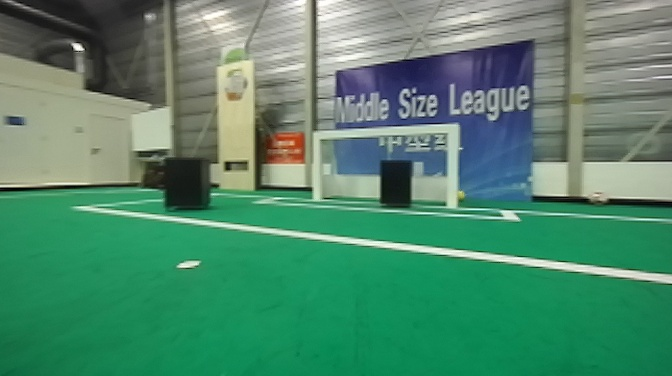ball: (587, 182, 604, 202), (455, 186, 471, 205)
goalpost: (442, 125, 457, 210), (309, 129, 325, 201)
